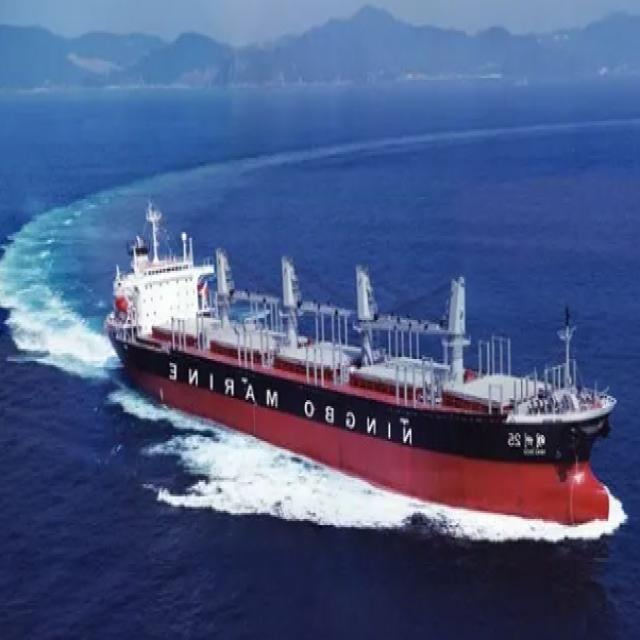cargoship: (111, 226, 624, 517)
